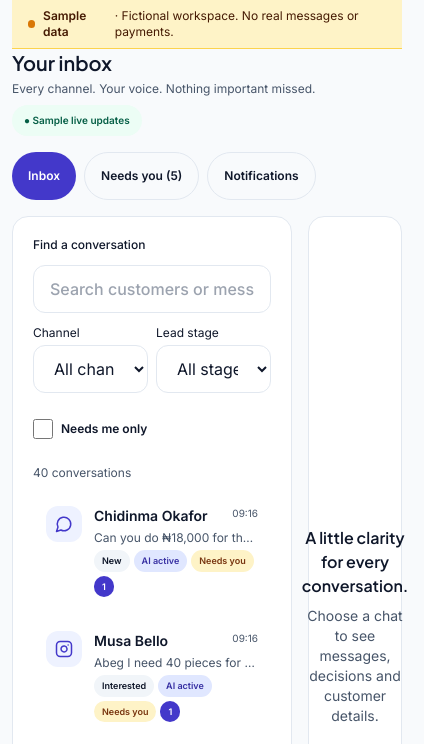
Test: filters by channel, stage, needs me and text; resets an empty result
Expected: the text "40 conversations" is shown, x1=33 y1=465 x2=131 y2=481
Select "WhatsApp" in the dropdown labelled "Channel" at (90, 369), box x1=33 y1=345 x2=148 y2=393
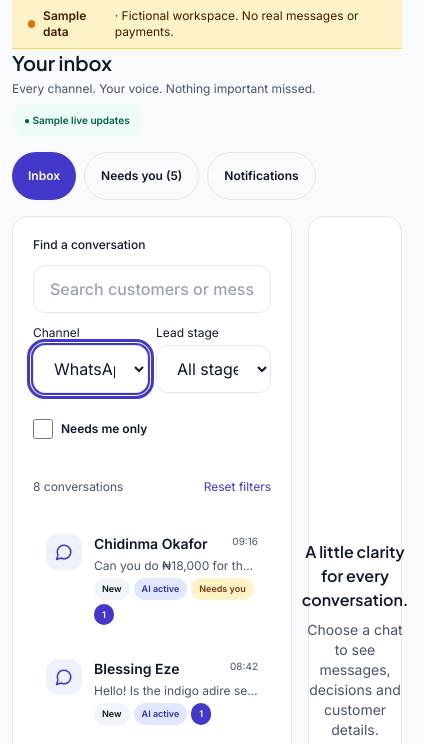
Result: the text "8 conversations" is shown at x1=33 y1=479 x2=123 y2=495
Click the checkbox labelled "Needs me only" at (43, 429), box x1=33 y1=419 x2=53 y2=439
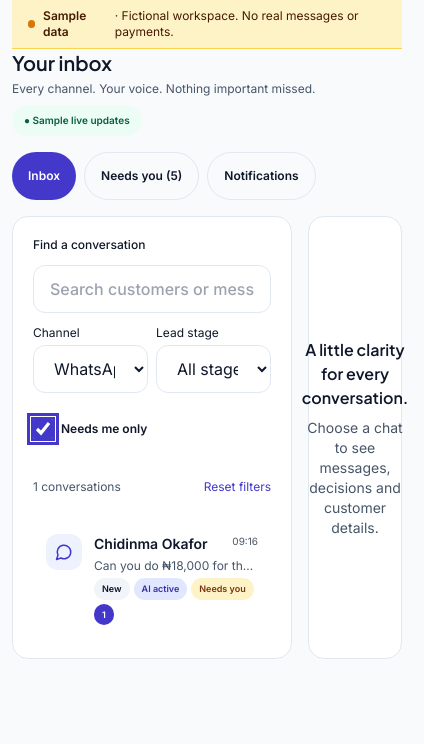
Expected: the button with test id "conversation-row" shows "New", x1=33 y1=521 x2=271 y2=638
Result: the text "1 conversations" is shown at x1=33 y1=479 x2=121 y2=495
Select "Ready to pay" in the dropdown labelled "Lead stage" at (214, 369), box x1=156 y1=345 x2=271 y2=393
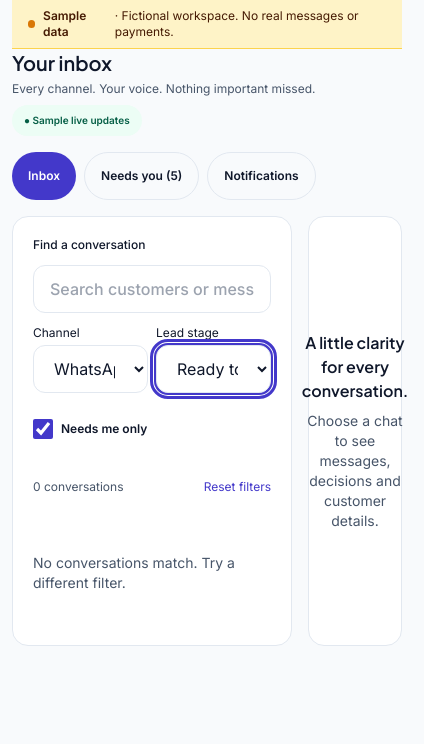
Result: the text "No conversations match. Try a different filter." is shown at x1=33 y1=554 x2=235 y2=591
Click the button "Reset filters" at (237, 487), box x1=204 y1=465 x2=271 y2=509
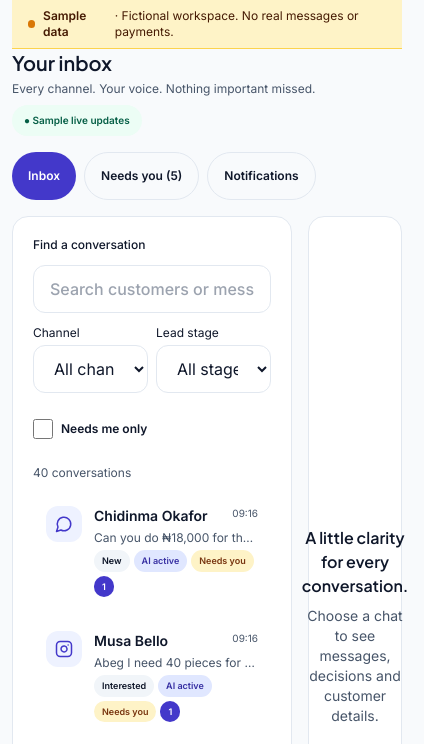
Result: the text "40 conversations" is shown at x1=33 y1=465 x2=131 y2=481
Type "Chidinma" into the field with placeholder "Search customers or messages" at (152, 289), box x1=33 y1=265 x2=271 y2=313
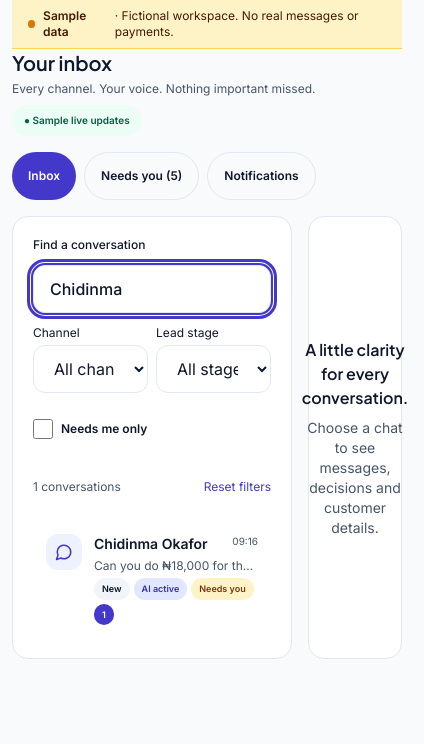
Result: the button with test id "conversation-row" shows "Needs you" at x1=33 y1=521 x2=271 y2=638
Result: the text "1 conversations" is shown at x1=33 y1=479 x2=121 y2=495
